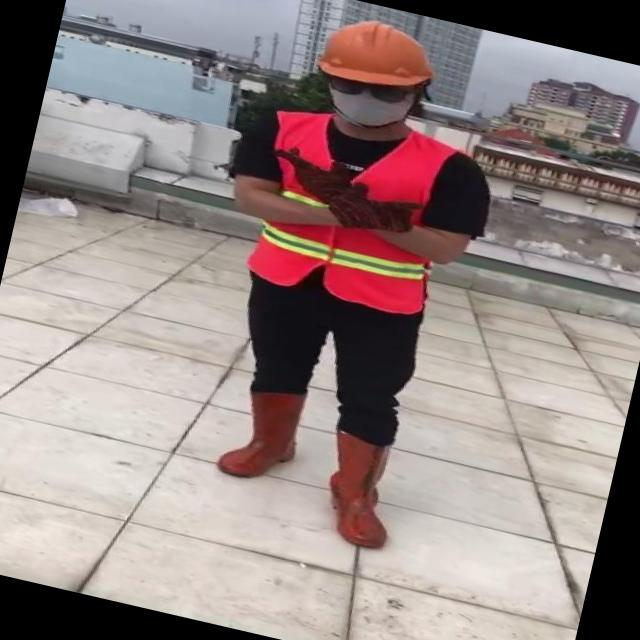hard_hat: (310, 4, 448, 100)
safety_vest: (233, 102, 462, 319)
vehicle: (139, 0, 530, 566)
work_boots: (311, 424, 407, 550), (216, 379, 310, 487)
